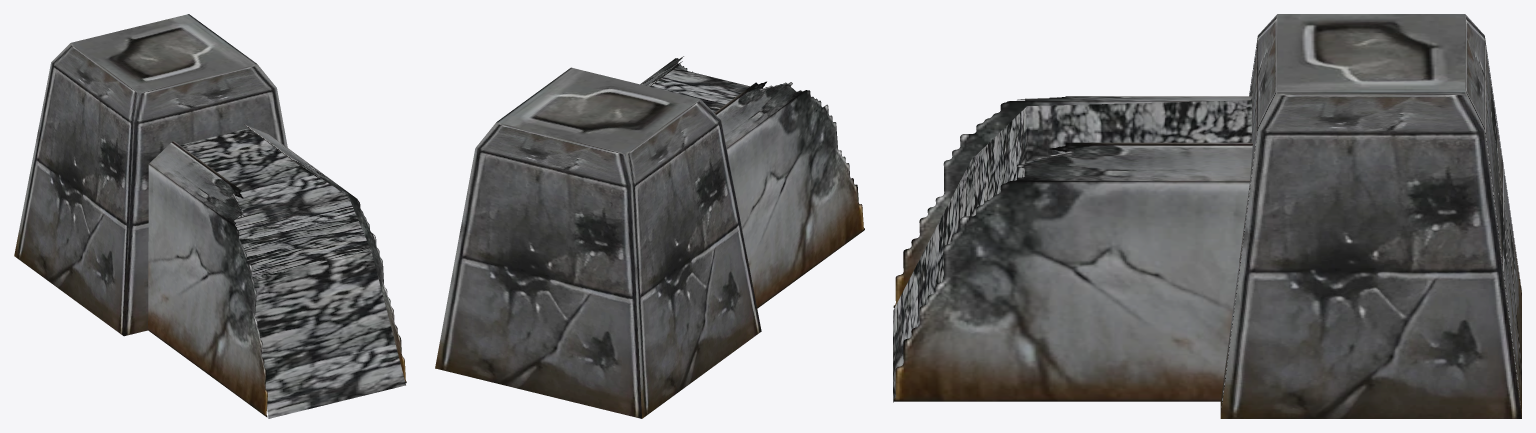
Rendered from s_lightwall_dam_hdtex.glb.
The picture shows the model from 3 angles, left to right: view 1: azimuth 30°, elevation 25°; view 2: azimuth 150°, elevation 25°; view 3: azimuth 270°, elevation 25°; orthographic projection. The views are drawn at different scales.
Visible parts, largest first — view 1: S_LightWallDAM; view 2: S_LightWallDAM; view 3: S_LightWallDAM.
Part boxes in pixels (x1,y1,x2,y2): S_LightWallDAM: (14, 14, 406, 418); S_LightWallDAM: (435, 56, 864, 418); S_LightWallDAM: (893, 14, 1521, 418).
Size of the model in its own units: 4.03 by 4.49 by 8.42.
1 material, 1 textured.
